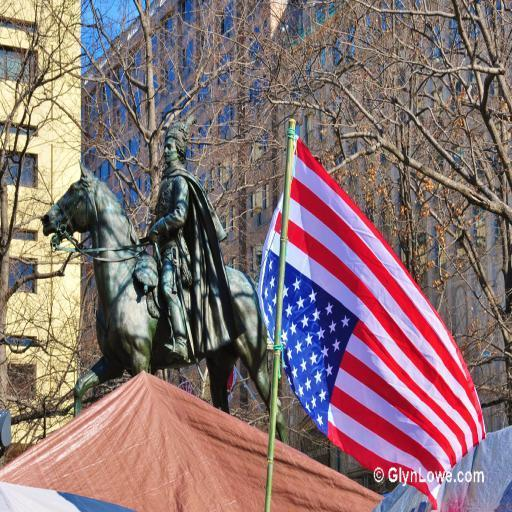horse: (41, 158, 289, 444)
